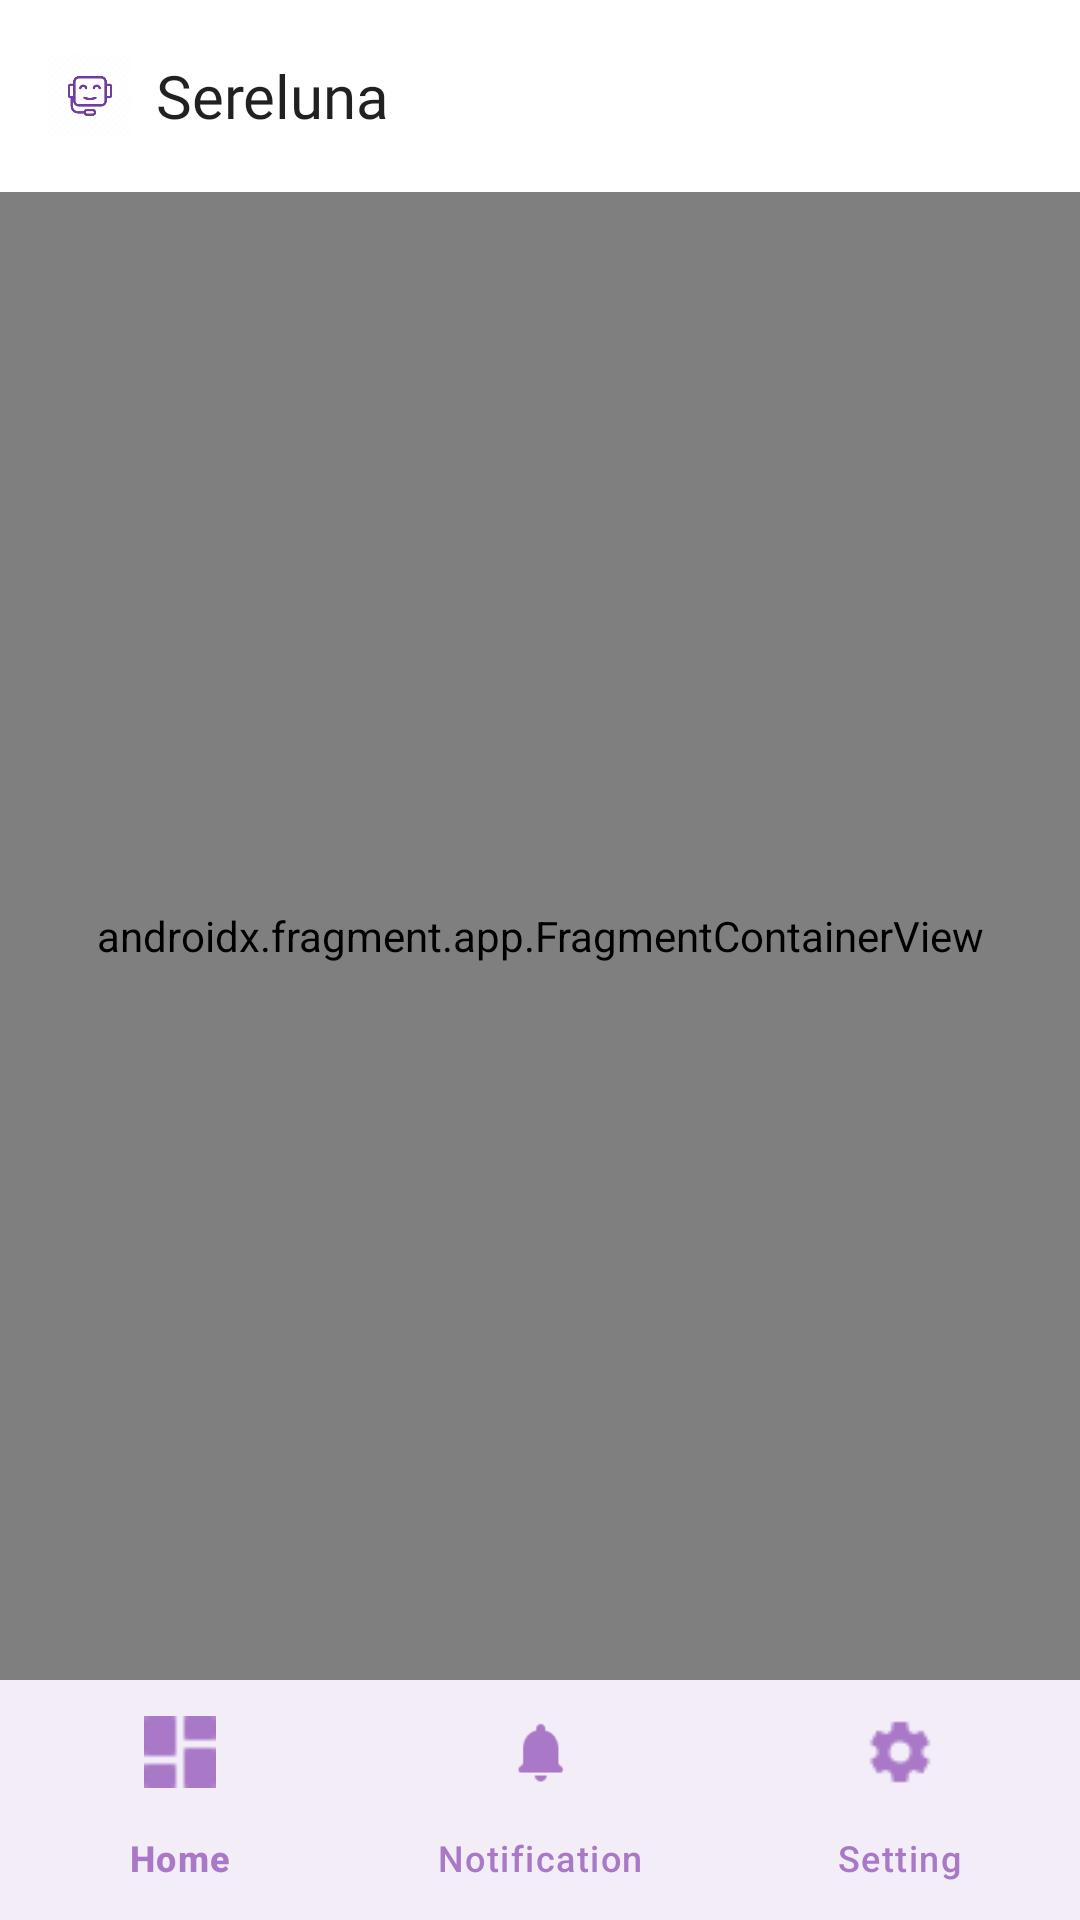

Icon click points for this 1080*1920 phone screenshot, format [x,y]:
chatbot: [90,96]
